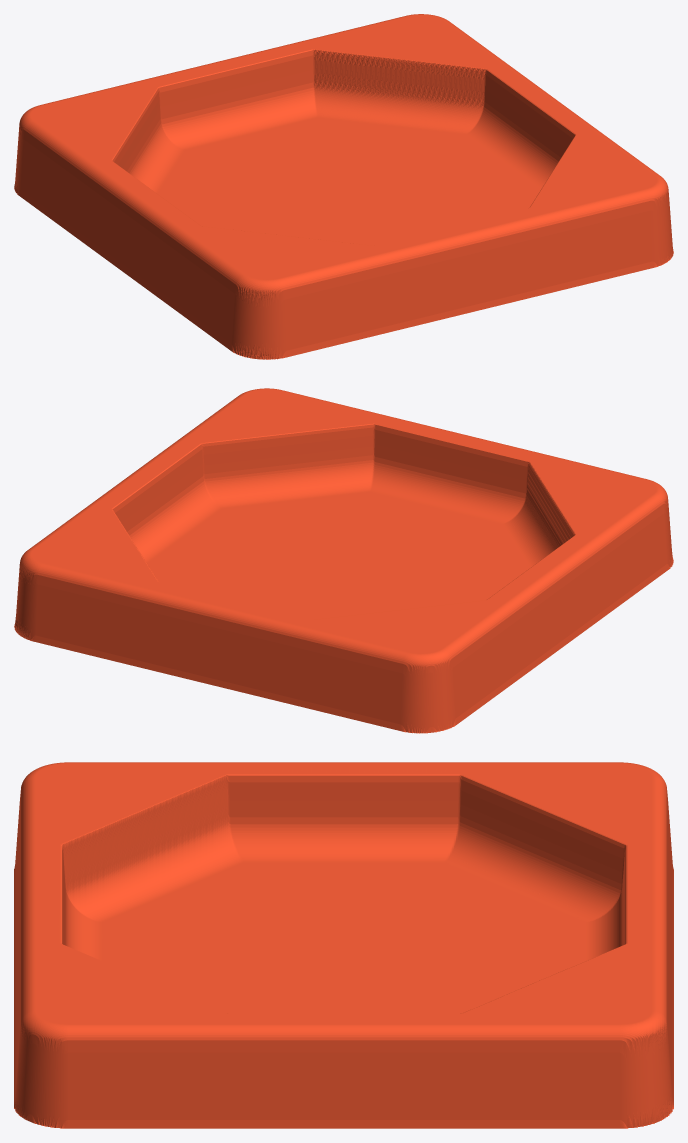
Rendered from mold.glb.
The picture shows the model from 3 angles, top to bottom: view 1: azimuth 30°, elevation 25°; view 2: azimuth 150°, elevation 25°; view 3: azimuth 270°, elevation 25°; orthographic projection. The views are drawn at different scales.
Parts seen in each view (by area): view 1: geometry_0; view 2: geometry_0; view 3: geometry_0.
Part boxes in pixels (bbox=[...]): geometry_0: bbox=[14, 14, 673, 359]; geometry_0: bbox=[14, 388, 673, 733]; geometry_0: bbox=[14, 762, 673, 1128].
Bounding box in the file's own units: 0.1102 × 0.0175 × 0.1102.
